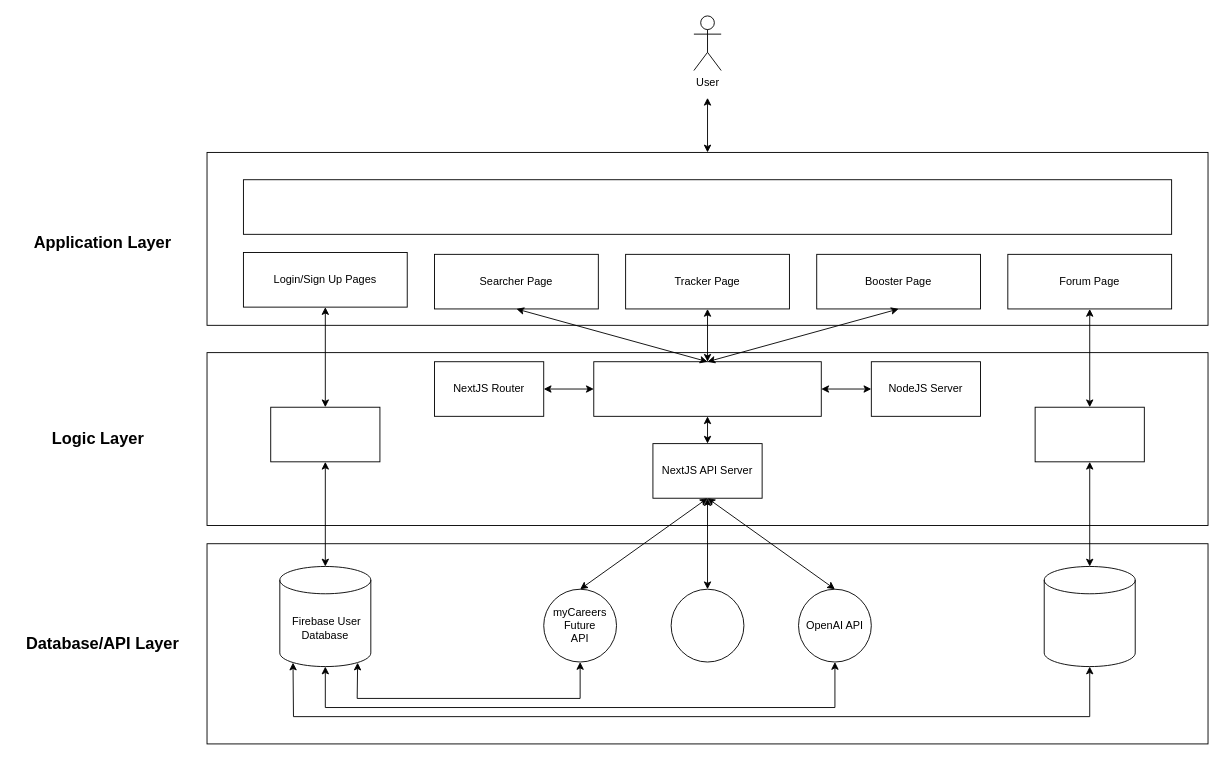
The diagram is 1224 pixels wide and 760 high, and some of its shapes have lost their labels. Each missing label, with the centre of its shape:
"Data Retrieval Manager" belongs at (x=707, y=388).
"Firebase Authenthication Server" belongs at (x=325, y=434).
"Firebase Forum Database" belongs at (x=1089, y=616).
"Forum Manager" belongs at (x=1089, y=434).
"Google Maps API" belongs at (x=707, y=625).
"Web Application" belongs at (x=707, y=206).
